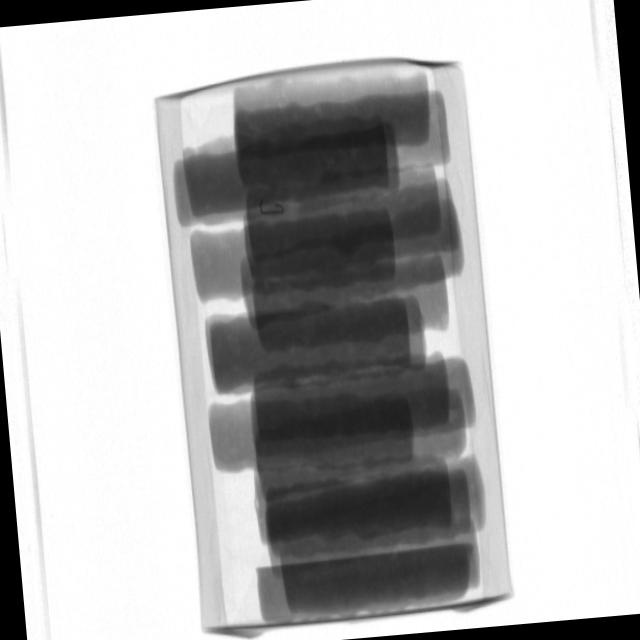ym: (260, 199, 286, 217)
